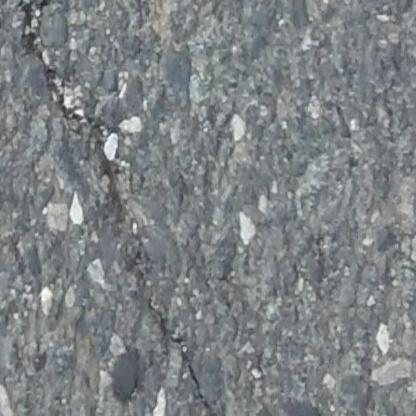Cracks: (17, 0, 220, 416)
